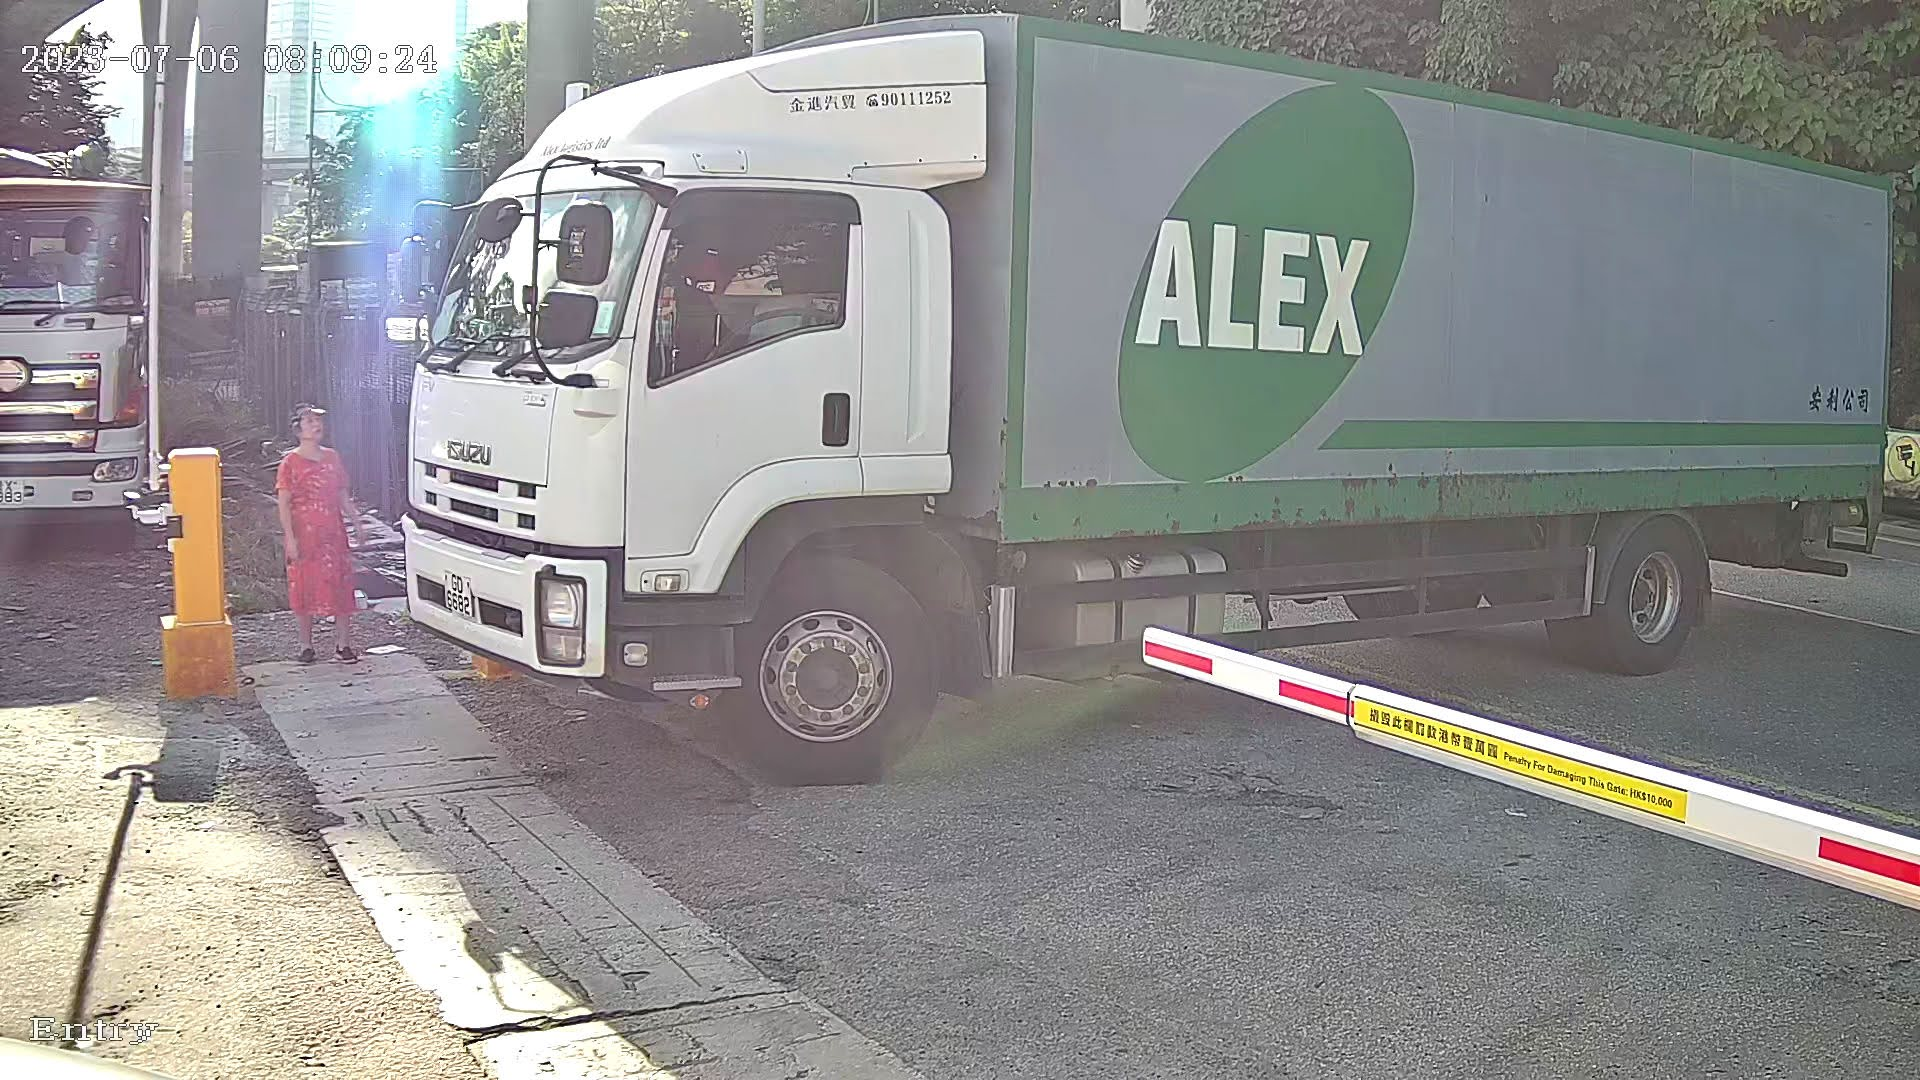truck_large: (377, 1, 1920, 823)
